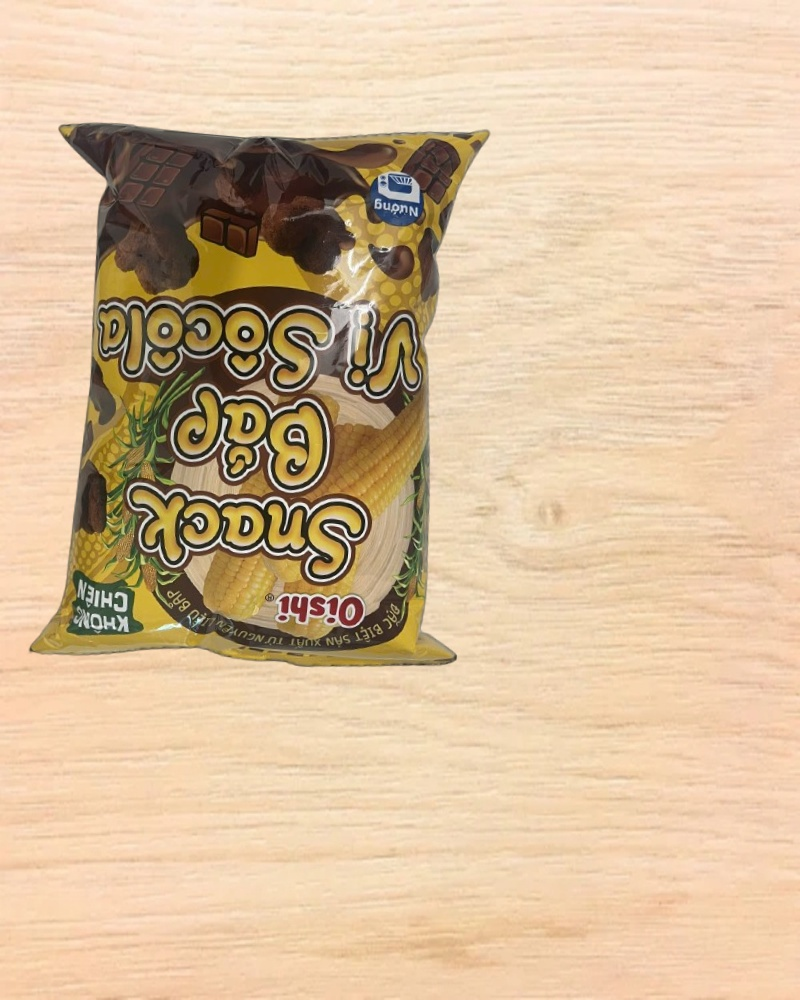Snack socola: (15, 97, 502, 689)
